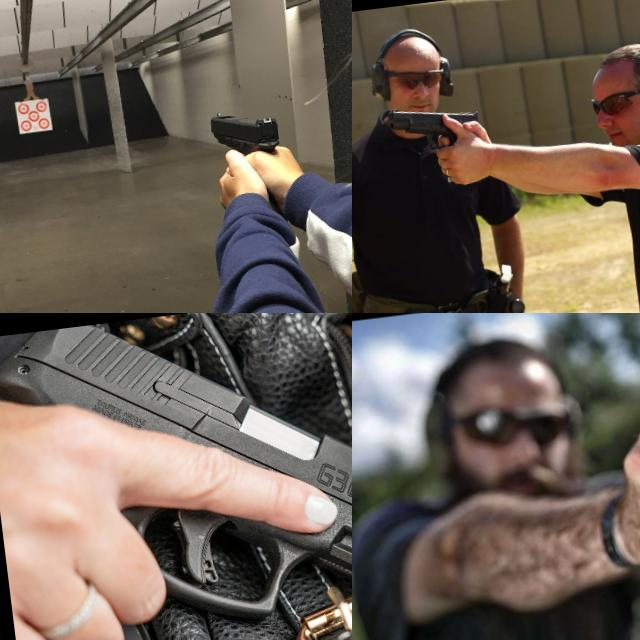handgun: (0, 313, 352, 640), (204, 104, 296, 232), (383, 95, 485, 159)
